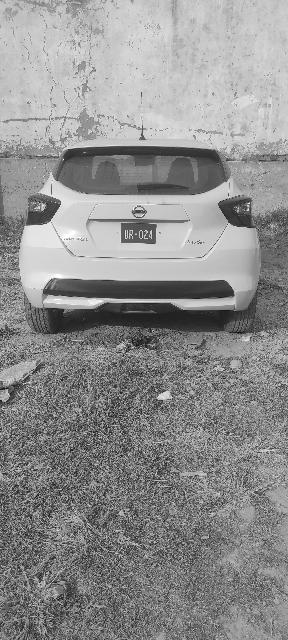Number: (123, 228, 153, 240)
